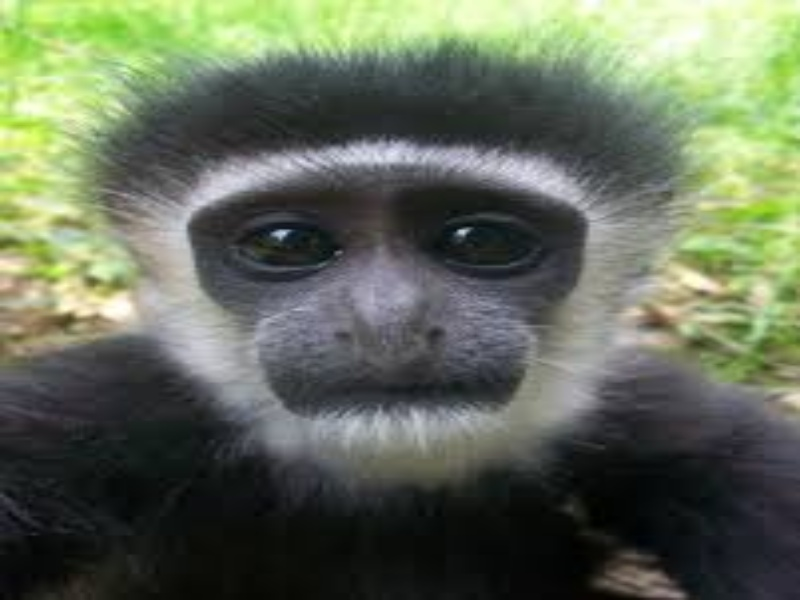monkey: (9, 27, 760, 586)
